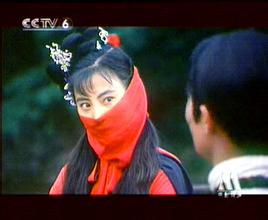WRONG: (75, 82, 134, 143)
